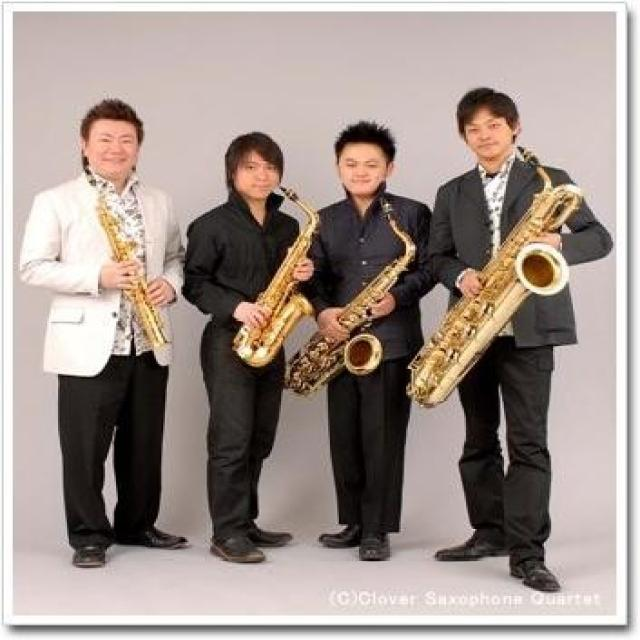saxophone: (407, 144, 586, 406), (282, 196, 415, 398), (225, 177, 320, 373)
